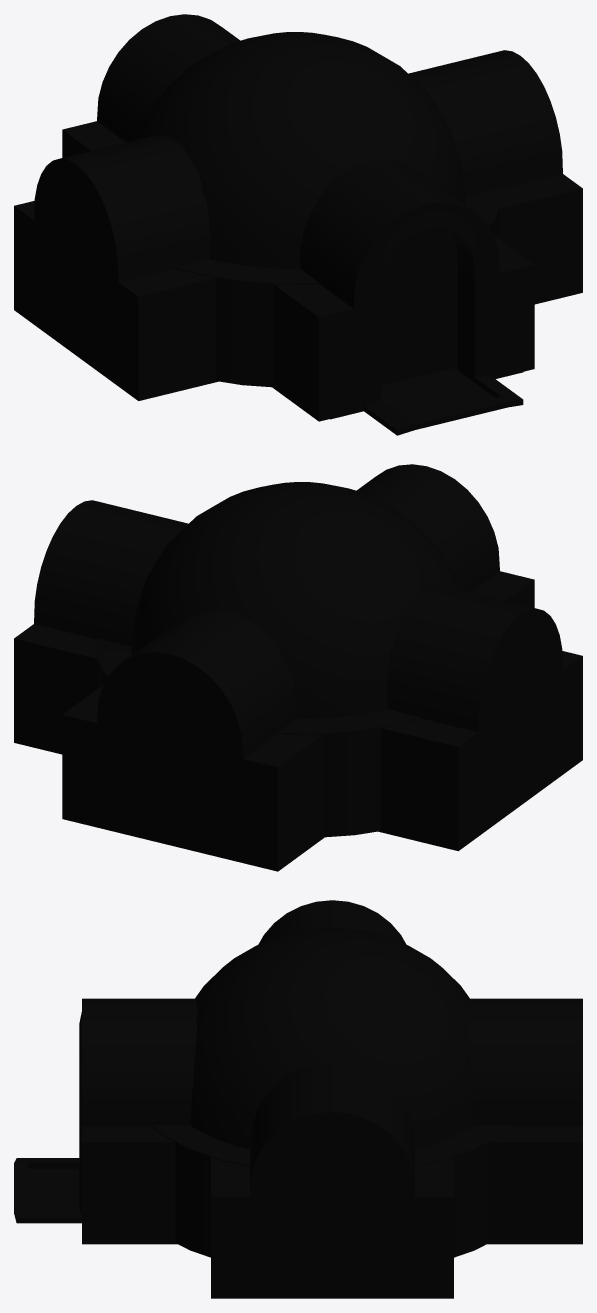
File: urban_high.fbx
3 renders of one model, top to bottom at view 1: azimuth 30°, elevation 25°; view 2: azimuth 150°, elevation 25°; view 3: azimuth 270°, elevation 25°, orthographic. The views are drawn at different scales.
Visible parts, largest first — view 1: node_id4; view 2: node_id4; view 3: node_id4.
Boxes of the visible parts, x1,y1,x2,y2 form: node_id4: (14,14,582,435); node_id4: (14,464,582,871); node_id4: (14,900,582,1298).
Bounding box in the file's own units: 0.512 × 0.2877 × 0.5814.
1 material, 1 textured.
